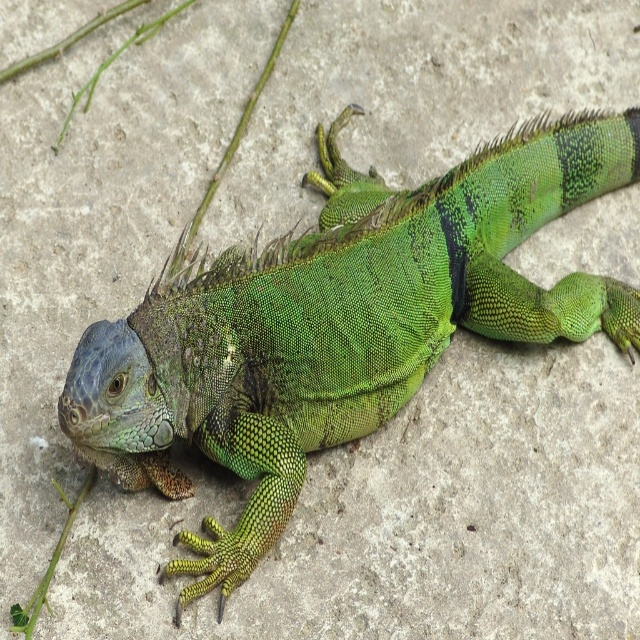Lizard: (57, 104, 640, 628)
